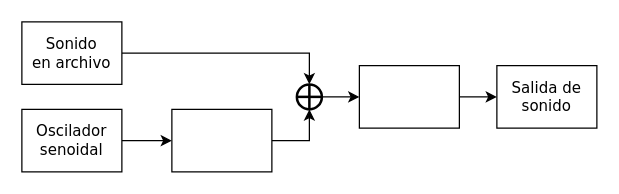
Some shapes in this 619 by 194 pixel diagram are drawn without their labels. The centre of each missing label's shape, as x and y in pixels:
"Control de amplitud" belongs at [221,140].
"Control de volumen" belongs at [408,96].
